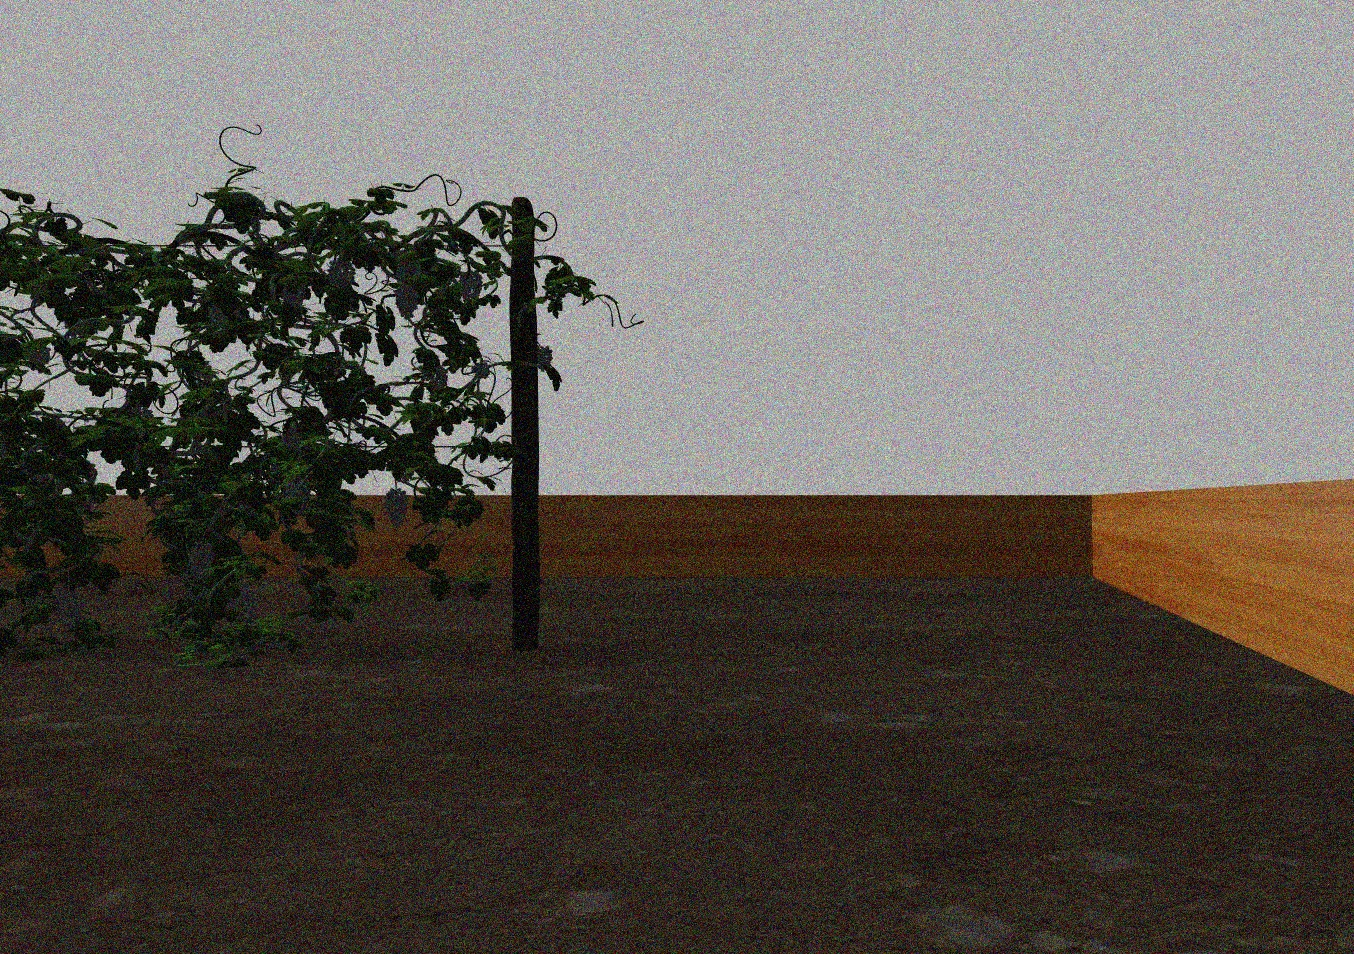grape: (54, 590, 87, 633), (186, 541, 215, 585), (384, 487, 410, 528), (326, 259, 355, 293), (397, 248, 421, 284), (459, 271, 483, 305), (283, 280, 307, 313), (396, 288, 419, 320), (230, 583, 252, 615), (282, 421, 302, 451), (537, 346, 554, 371)
